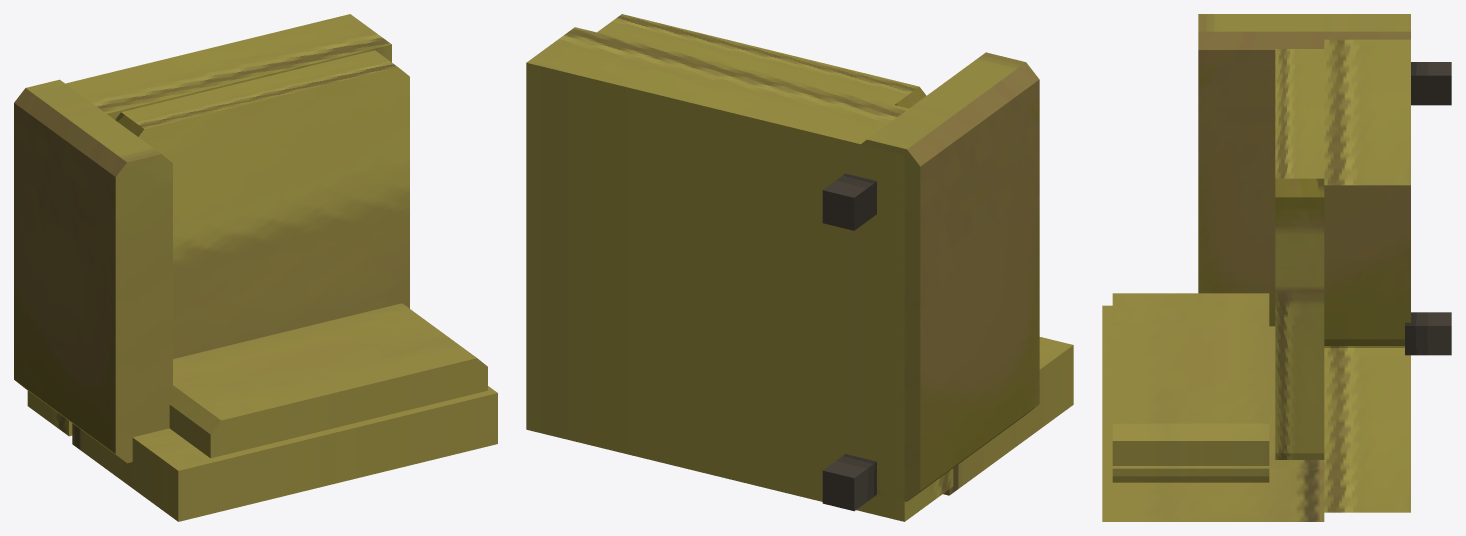
The model's file is pz_sofa_seating_indoor_03_yellow_modern_0_0.obj.
3 views of the same model, side by side, from view 1: azimuth 30°, elevation 25°; view 2: azimuth 150°, elevation 25°; view 3: azimuth 270°, elevation 25° (orthographic). The views are drawn at different scales.
Bounding box in the file's own units: 1 × 0.93 × 0.86.
1 material, 1 textured.
